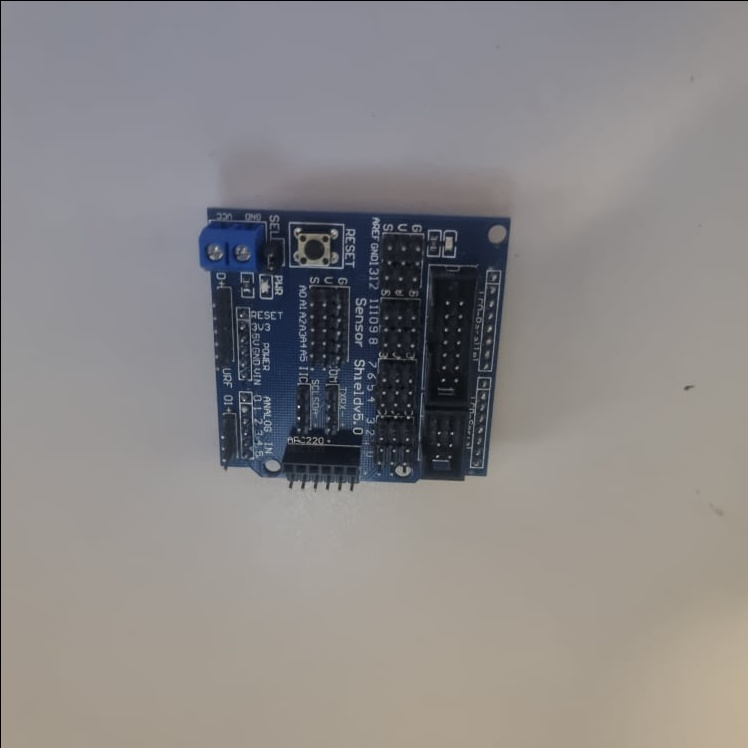5V EXPANSION: (196, 203, 509, 488)
